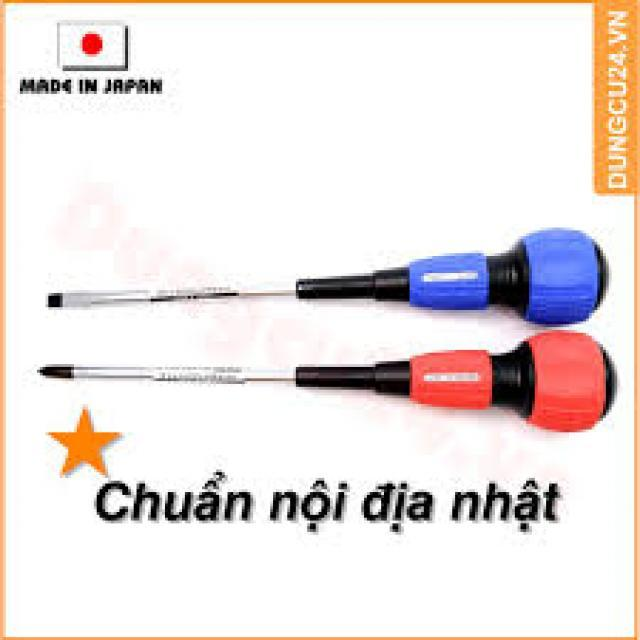screwdriver: (34, 328, 623, 436), (44, 222, 607, 327)
